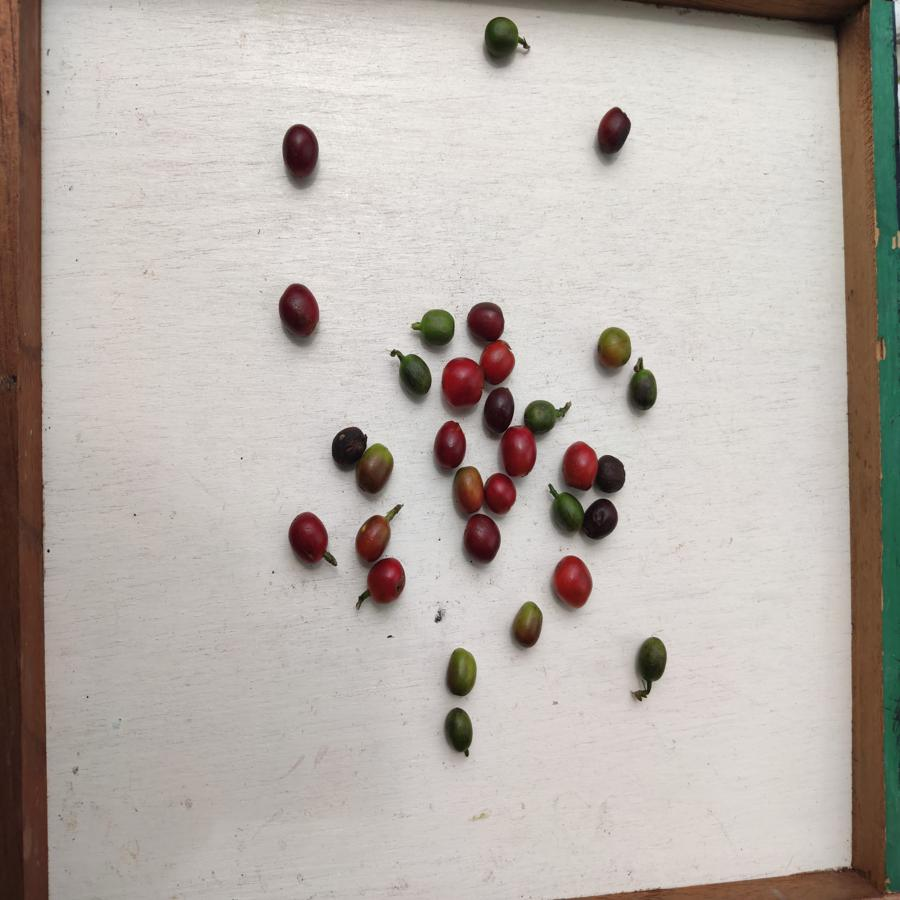Inmaduro: (396, 352, 437, 398), (632, 637, 671, 685), (550, 492, 585, 536), (417, 308, 457, 346), (444, 706, 473, 758), (629, 366, 659, 410), (520, 399, 559, 431)
Maduro: (552, 556, 597, 610), (442, 357, 487, 408), (289, 510, 329, 566), (365, 558, 408, 603), (561, 440, 596, 492), (501, 427, 538, 475), (481, 341, 517, 385), (433, 420, 466, 468), (487, 471, 515, 514)
Pinton: (356, 443, 396, 495), (594, 327, 632, 372), (445, 645, 477, 698), (453, 464, 485, 513), (356, 515, 390, 561), (510, 599, 544, 645)
Sobremaduro: (278, 283, 326, 341), (278, 124, 324, 180), (462, 513, 502, 564), (594, 106, 631, 154), (466, 300, 505, 343), (585, 499, 622, 543), (483, 387, 514, 432), (330, 427, 364, 465), (597, 454, 627, 495)
